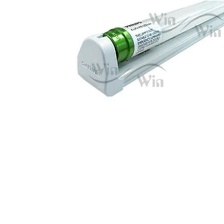light_bulb: (94, 0, 224, 67)
